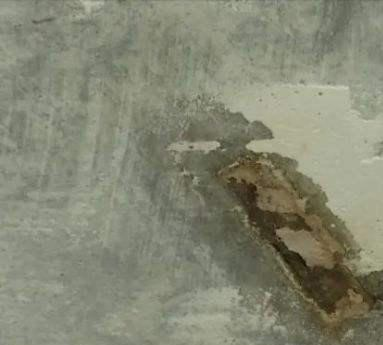Spalling: (216, 155, 383, 317)
